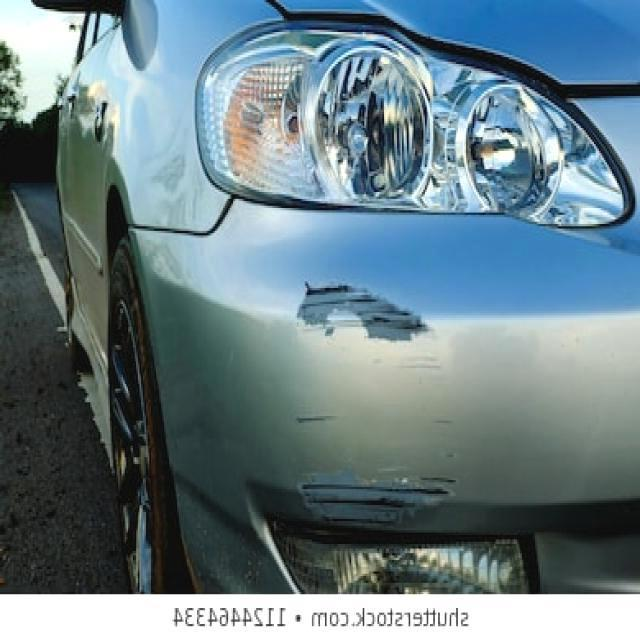minor: (294, 414, 334, 425)
moderate: (274, 260, 460, 362), (296, 469, 457, 524)
